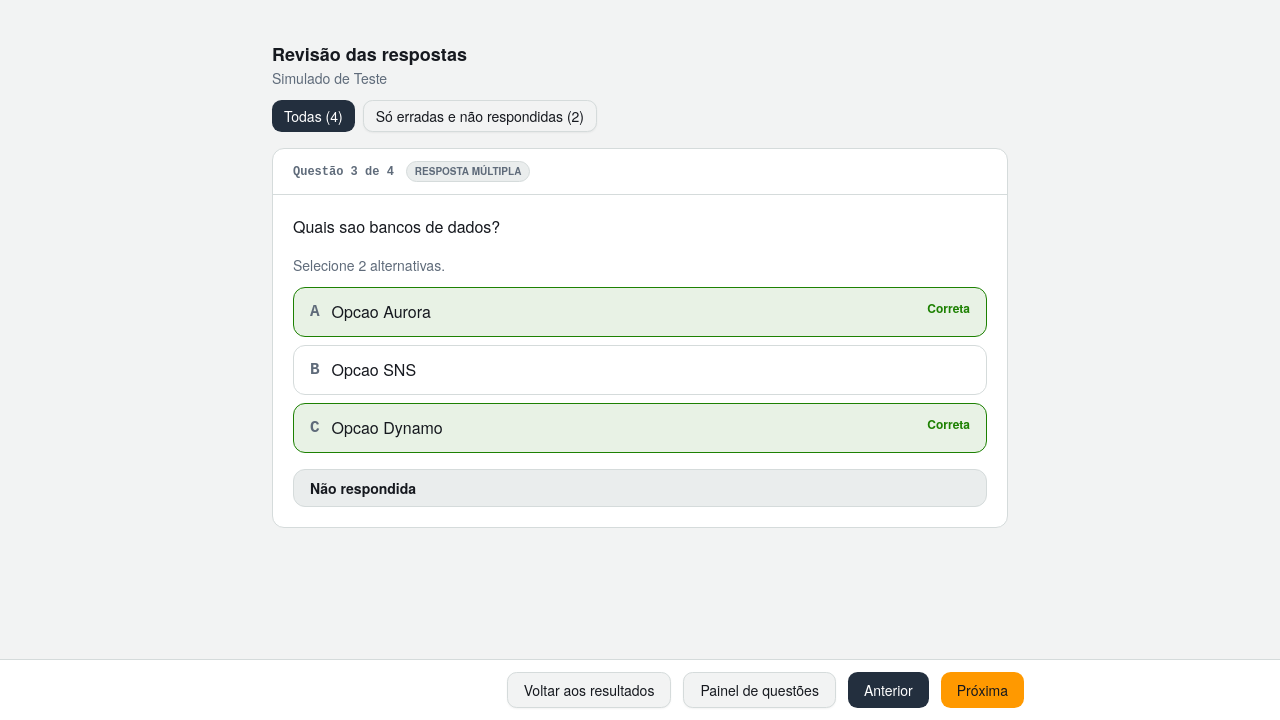
ExamReview filtro › a navegacao Anterior volta para a questao errada anterior ignorando as corretas
This screenshot has width=1280, height=720.
Click the button "Só erradas e não respondidas (2)".
click(480, 116)  # box [363,100,597,132]
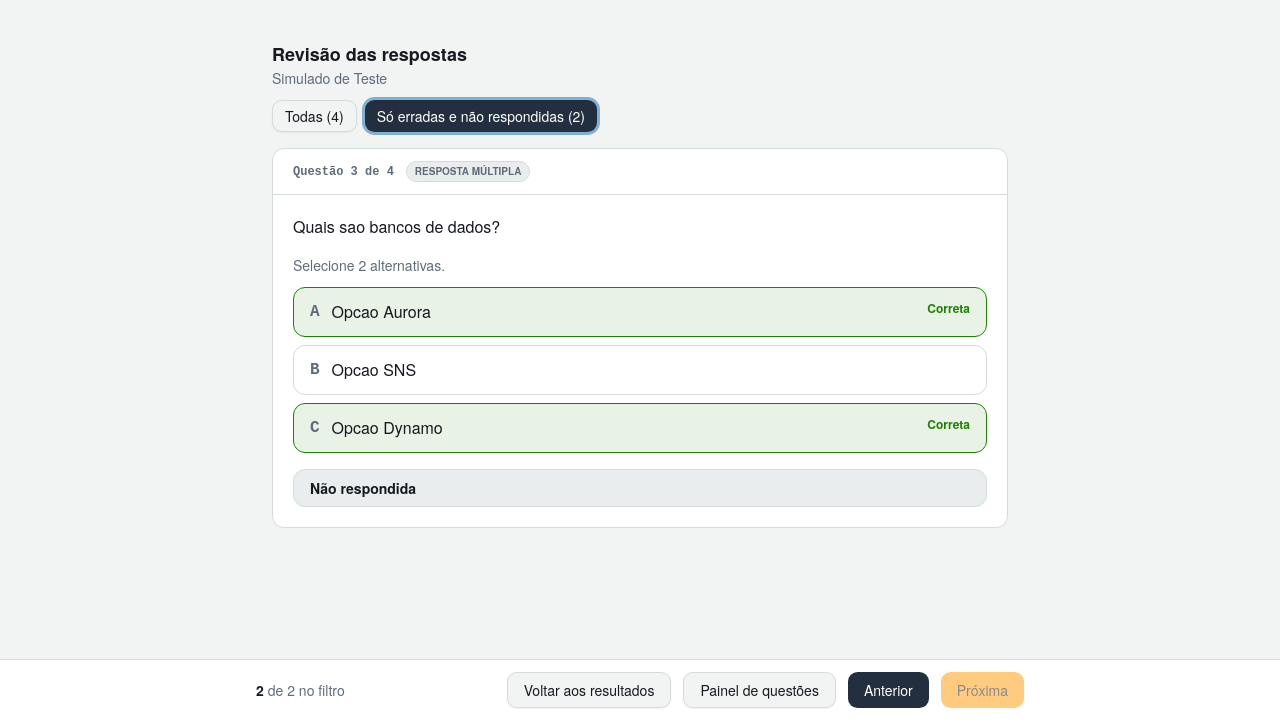
Click the button "Anterior".
click(888, 690)  # box [848,672,929,708]
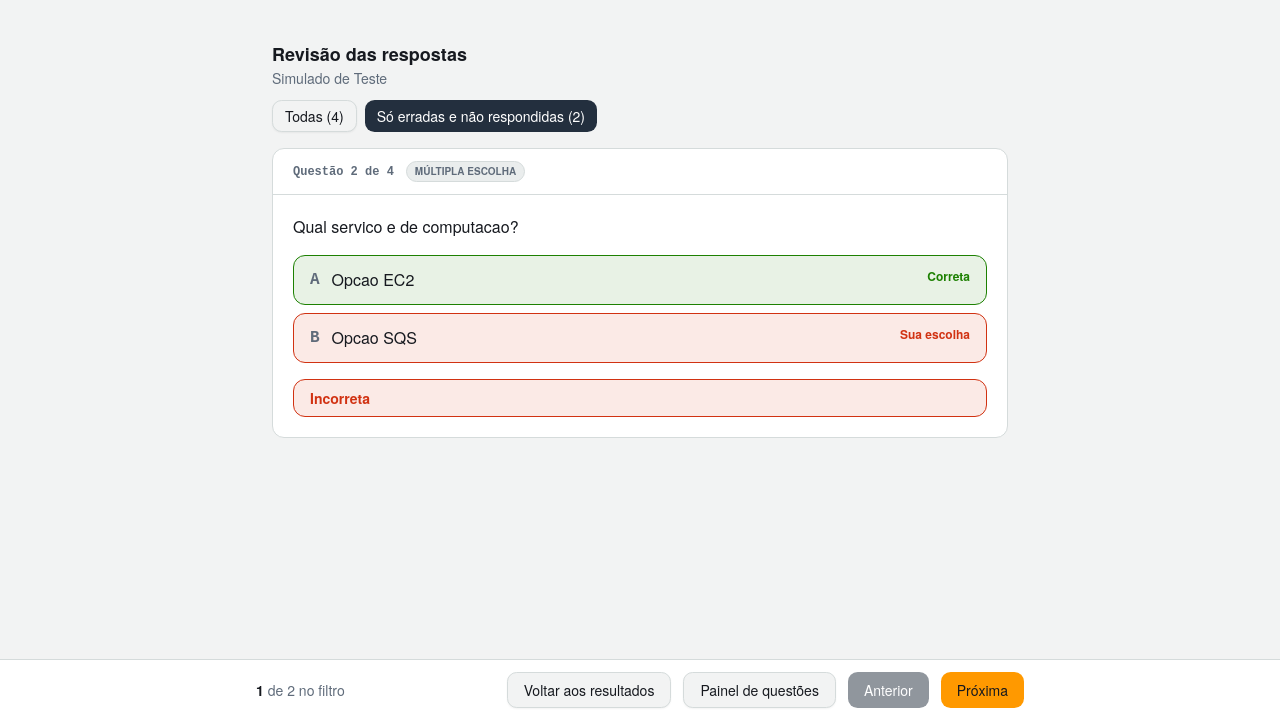
Expected: the text "Questão 2 de 4" is shown, [293,164,394,180]
